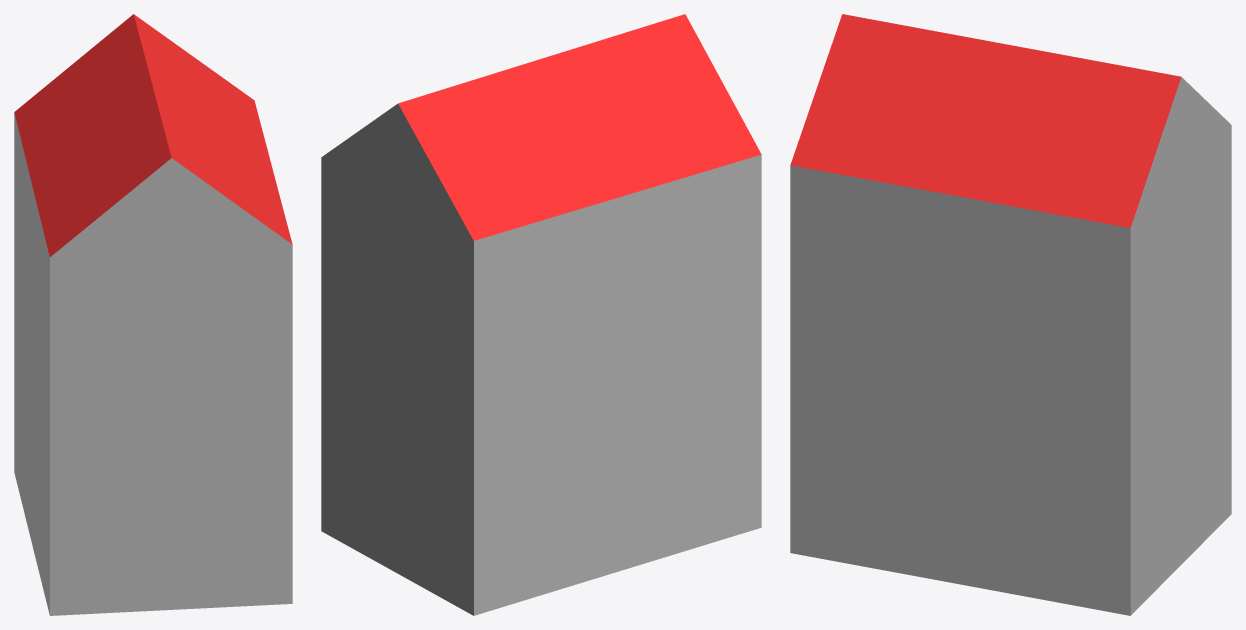
Rendered from DEBY_LOD2_4907123.dae.
The picture shows the model from 3 angles, left to right: view 1: azimuth 30°, elevation 25°; view 2: azimuth 150°, elevation 25°; view 3: azimuth 270°, elevation 25°; orthographic projection. The views are drawn at different scales.
Bounding box in the file's own units: 17.22 × 19.42 × 23.69.
